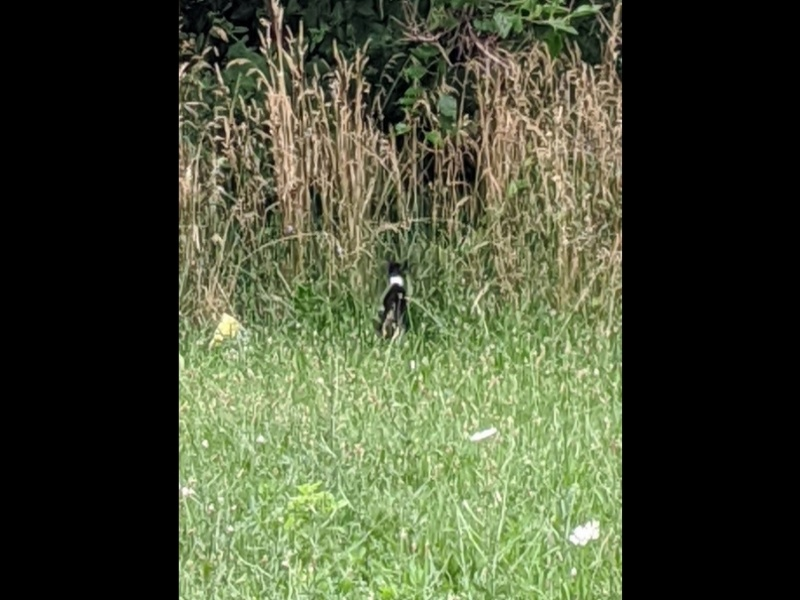cat: (375, 257, 416, 344)
